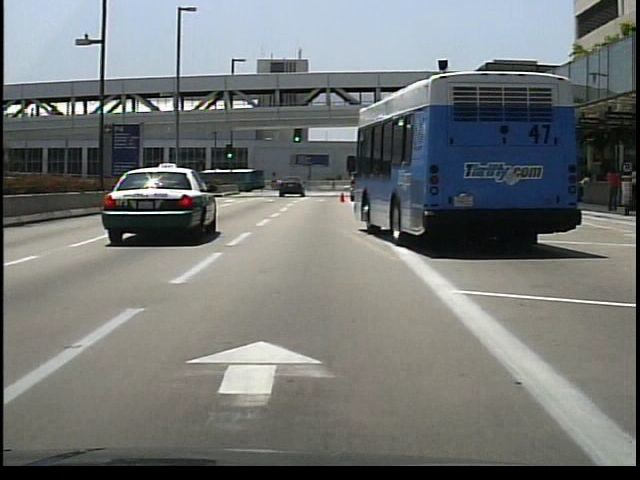person: (603, 162, 622, 214), (623, 162, 635, 211)
